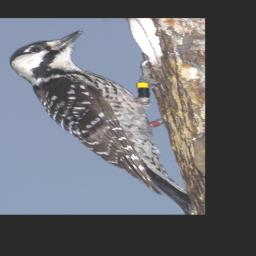Woodpecker: (7, 28, 194, 214)
